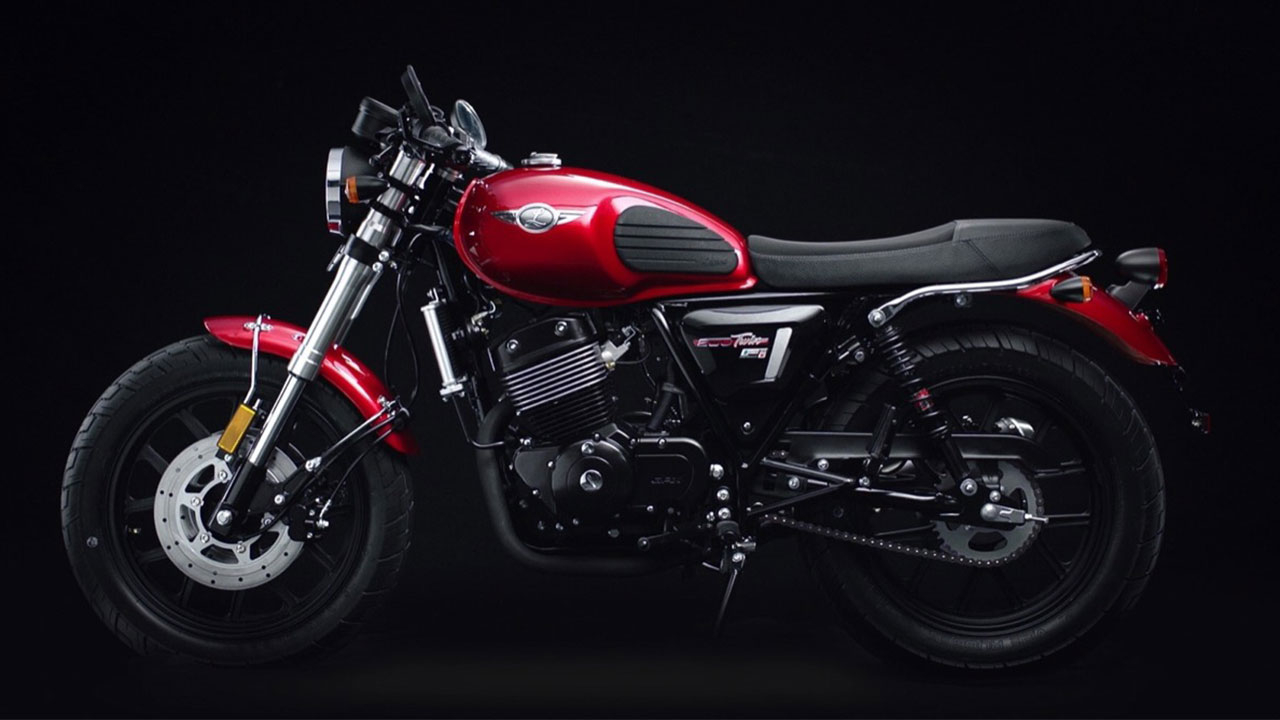motorcycle: (41, 57, 1215, 672)
